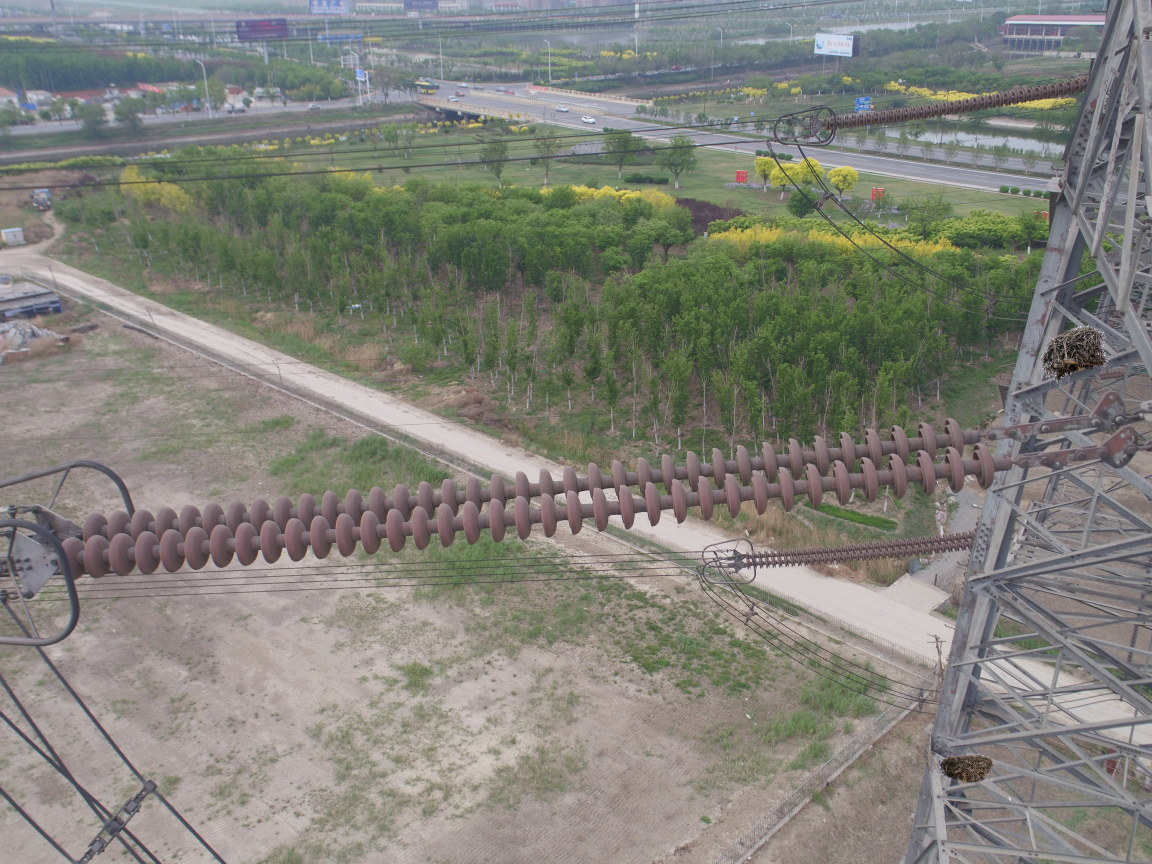nest: (1040, 322, 1108, 385), (934, 750, 997, 786)
